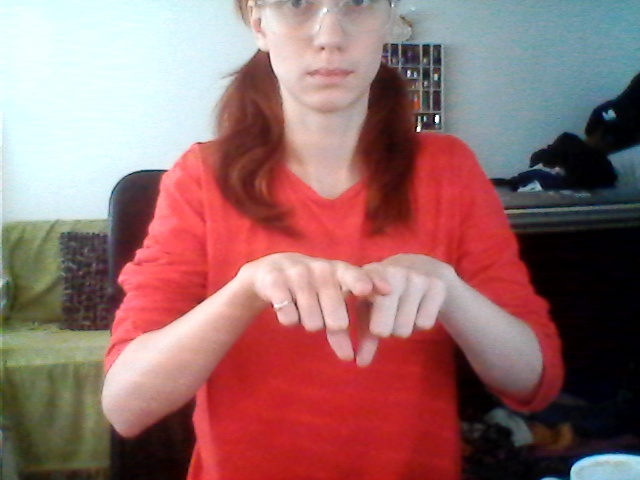sestra: (228, 231, 456, 374)
